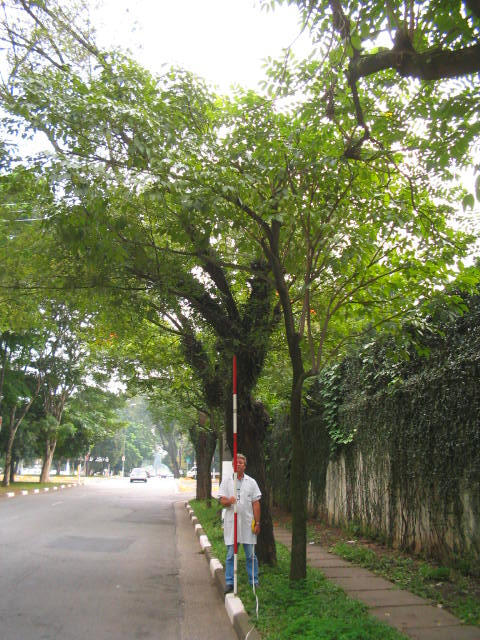crown: (4, 49, 477, 377)
stem: (276, 377, 330, 580)
stick: (223, 355, 243, 594)
tree: (1, 47, 479, 582)
